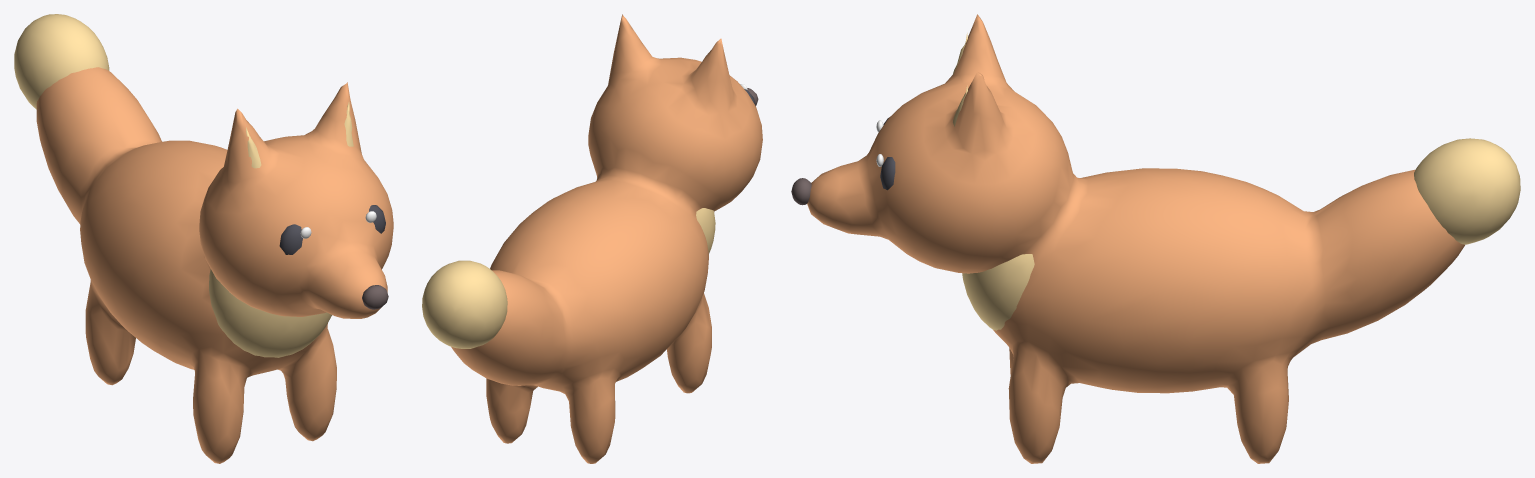
Rendered from Fox.fbx.
The picture shows the model from 3 angles, left to right: view 1: azimuth 30°, elevation 25°; view 2: azimuth 150°, elevation 25°; view 3: azimuth 270°, elevation 25°; orthographic projection. The views are drawn at different scales.
Visible parts, largest first — view 1: Body, Accent, Eyes, Detail; view 2: Body, Accent; view 3: Body, Accent.
Part boxes in pixels (<box>): Body: <box>36,67,393,463</box>; Accent: <box>14,14,353,357</box>; Eyes: <box>279,205,385,254</box>; Detail: <box>362,285,388,309</box>; Body: <box>451,14,762,463</box>; Accent: <box>422,208,715,348</box>; Body: <box>807,14,1464,463</box>; Accent: <box>952,33,1520,330</box>.
Bounding box in the file's own units: 1.19 × 2.32 × 3.86.
